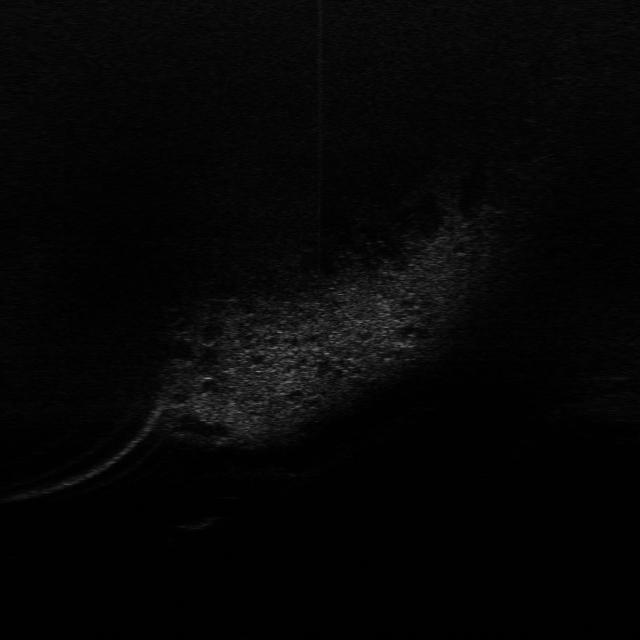cylinder: (174, 514, 224, 532)
